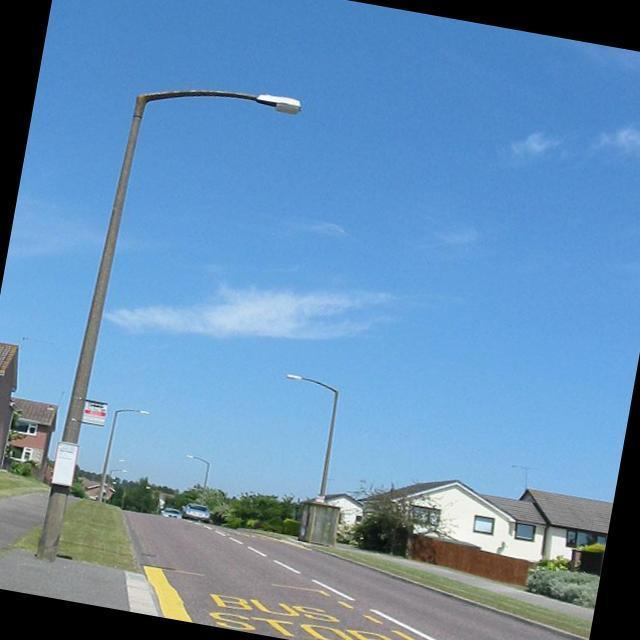off: (249, 75, 324, 139)
